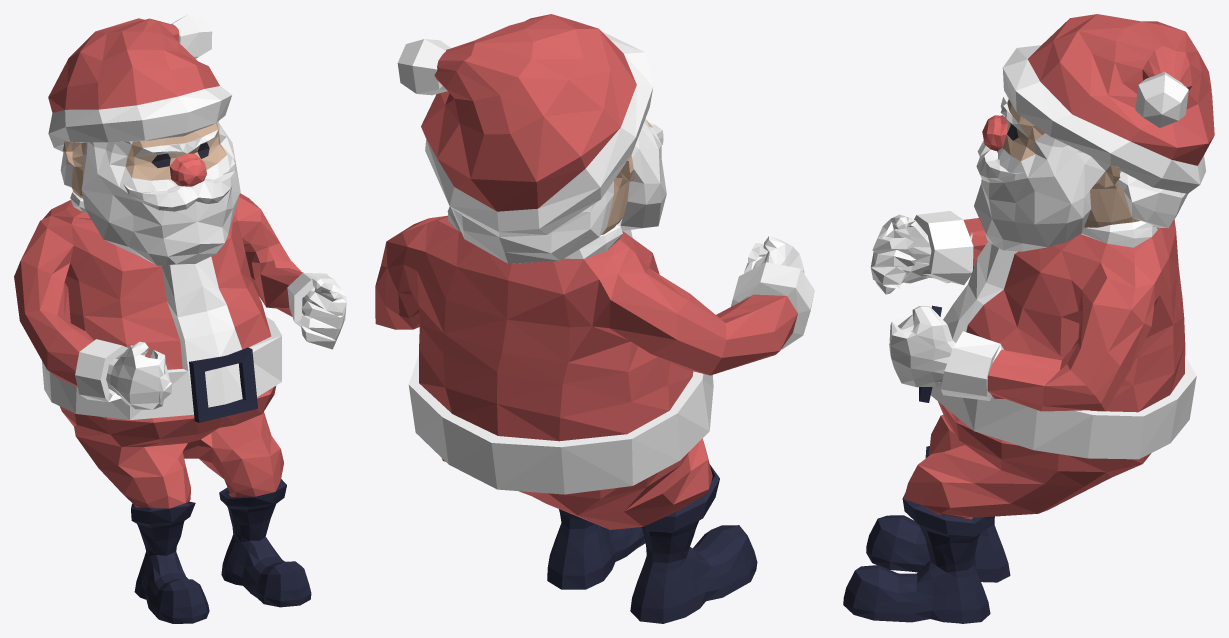
Rendered from man.fbx.
The picture shows the model from 3 angles, left to right: view 1: azimuth 30°, elevation 25°; view 2: azimuth 150°, elevation 25°; view 3: azimuth 270°, elevation 25°; orthographic projection. The views are drawn at different scales.
Visible parts, largest first — view 1: Santa_Claus_man1; view 2: Santa_Claus_man1; view 3: Santa_Claus_man1.
Part boxes in pixels (bbox=[...]): Santa_Claus_man1: bbox=[14, 14, 346, 623]; Santa_Claus_man1: bbox=[375, 14, 814, 623]; Santa_Claus_man1: bbox=[843, 14, 1214, 623].
Bounding box in the file's own units: 98.17 × 166 × 97.6.
